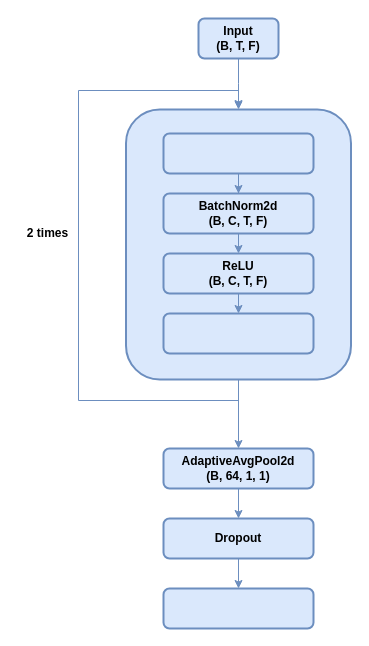
Some shapes in this 369 by 646 pixel diagram are drawn without their labels. Each missing label, with the centre of its shape:
"Conv2d (B, C, T, F)" belongs at (238,153).
"Linear (64, 2)" belongs at (238,608).
"MaxPool2d (B, C, T/2, F/2)" belongs at (238,333).
